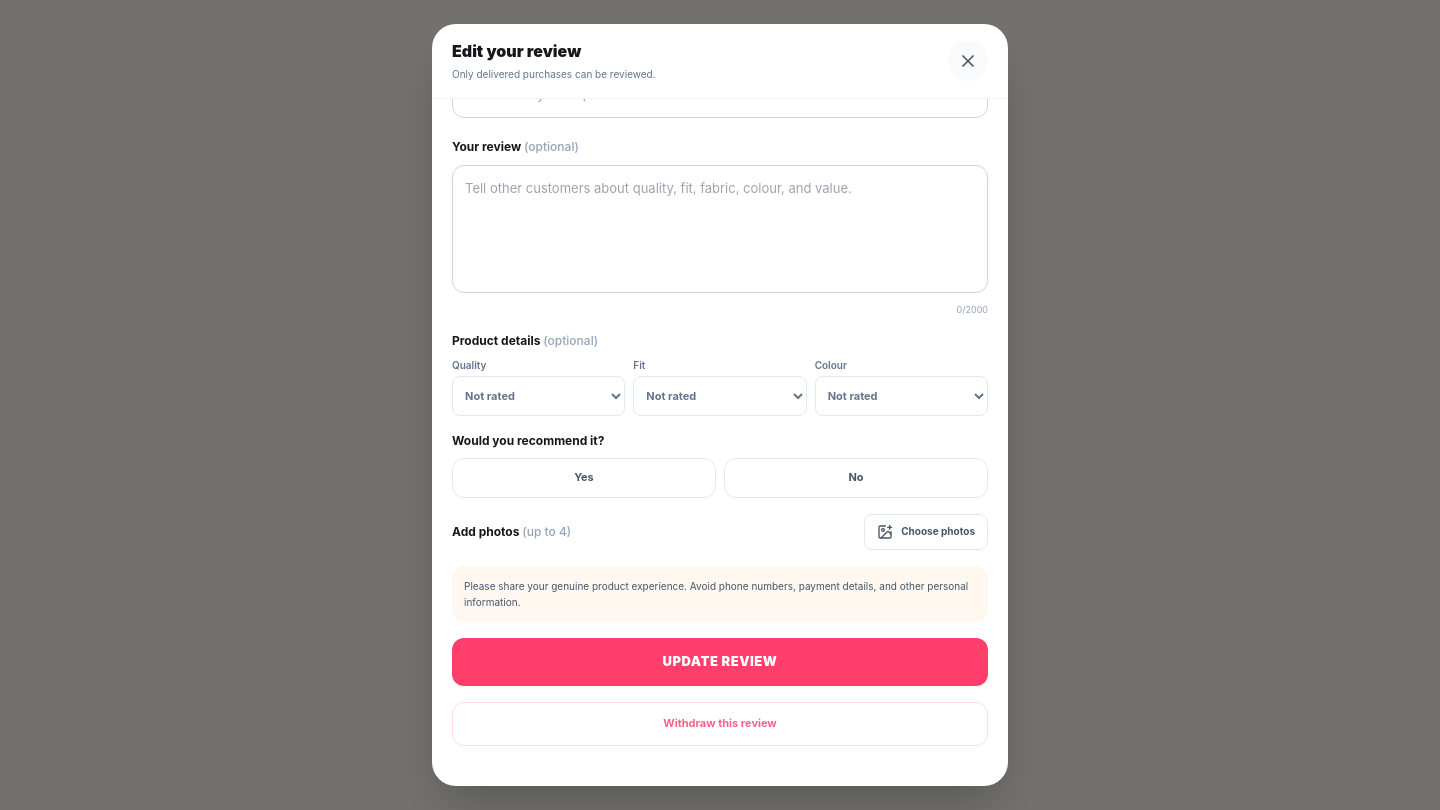
Scenario: ReviewModal › lets the customer withdraw an existing review
(page scrolled)
Click the button "Withdraw this review": (720, 724) x1=452 y1=702 x2=988 y2=746
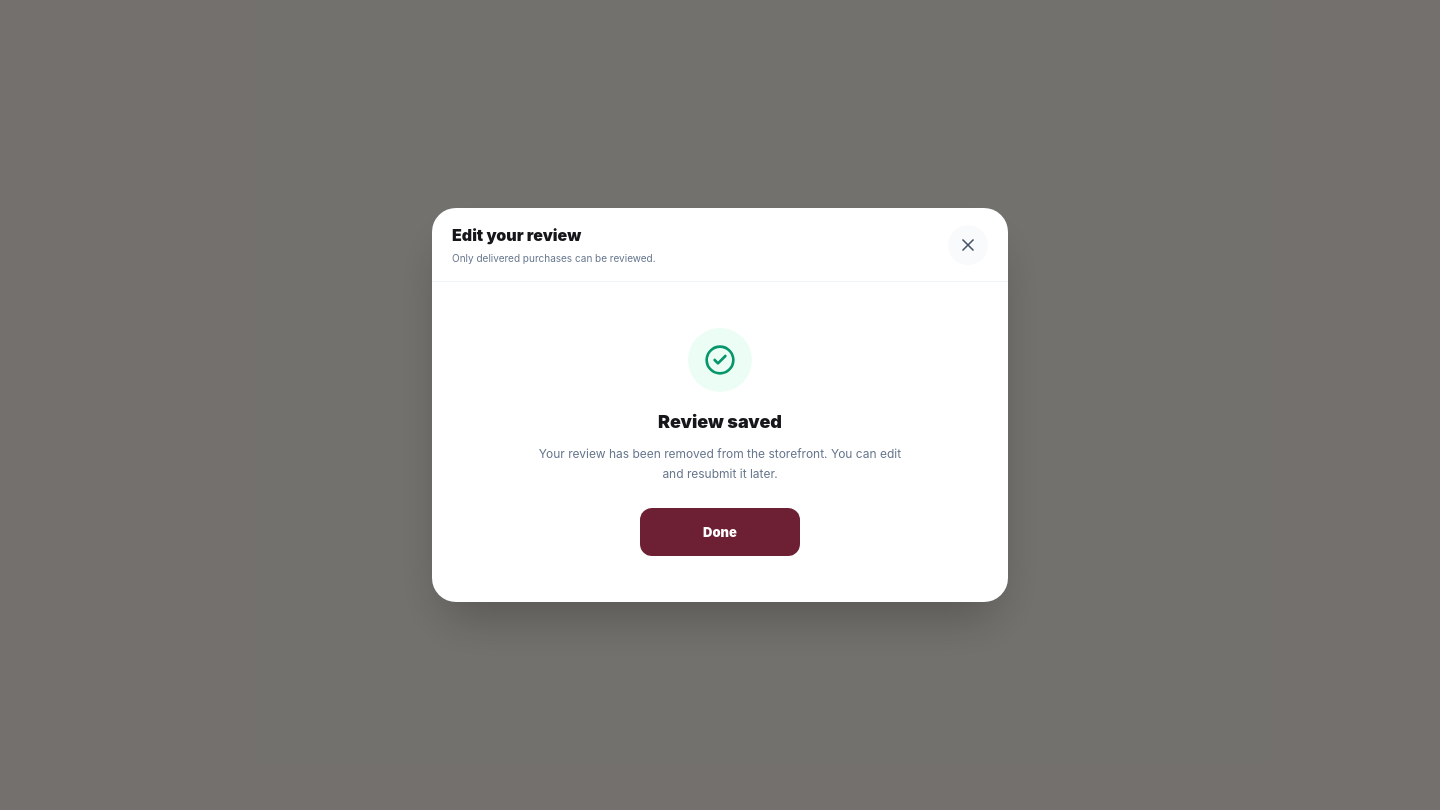
Result: the heading "Review saved" is shown at x1=658 y1=411 x2=782 y2=432
